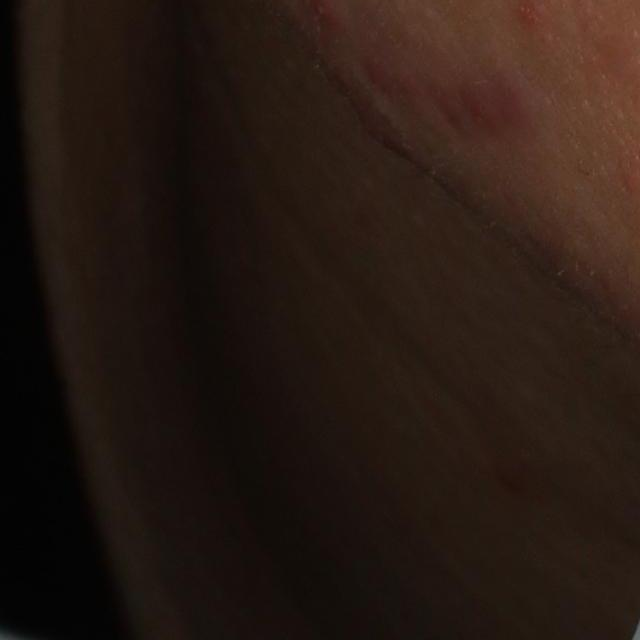papule: (460, 78, 502, 133)
